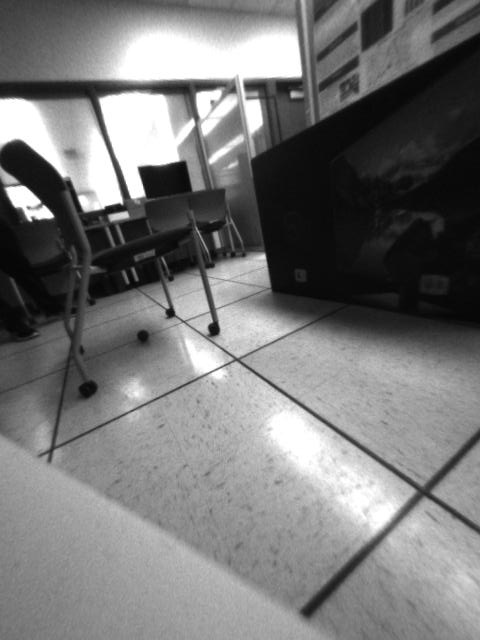dogtoy: (129, 324, 158, 348)
